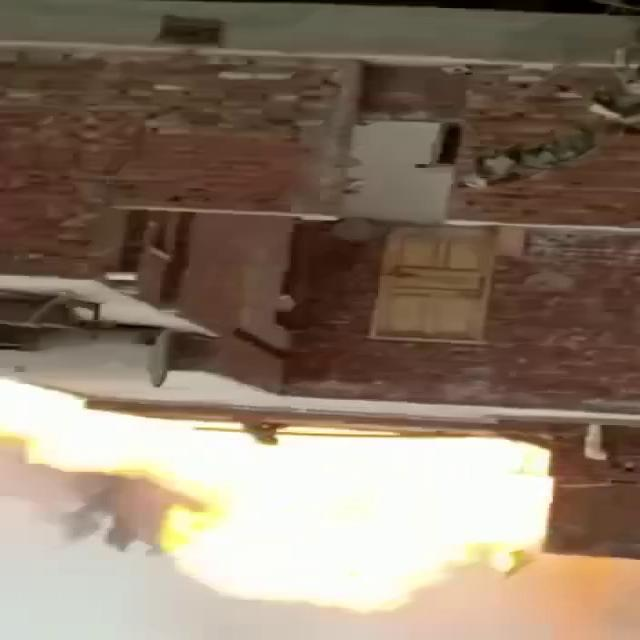Fire: (0, 397, 556, 616)
